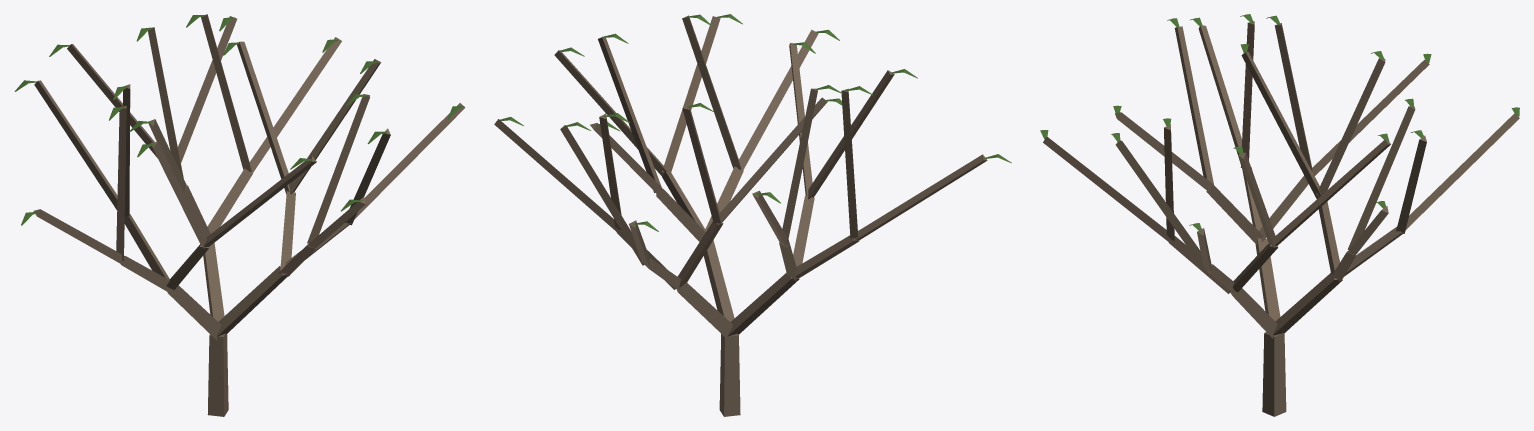
The model's file is frangipani_hoa_su.far.glb.
3 views of the same model, side by side, from view 1: azimuth 30°, elevation 25°; view 2: azimuth 150°, elevation 25°; view 3: azimuth 270°, elevation 25° (orthographic).
Parts seen in each view (by area): view 1: frangipani_hoa_su; view 2: frangipani_hoa_su; view 3: frangipani_hoa_su.
Part boxes in pixels (left/top/right/bottom): frangipani_hoa_su: left=14, top=14, right=465, bottom=416; frangipani_hoa_su: left=494, top=14, right=1011, bottom=416; frangipani_hoa_su: left=1040, top=14, right=1519, bottom=416.
Size of the model in its own units: 4.75 by 3.54 by 4.4.
